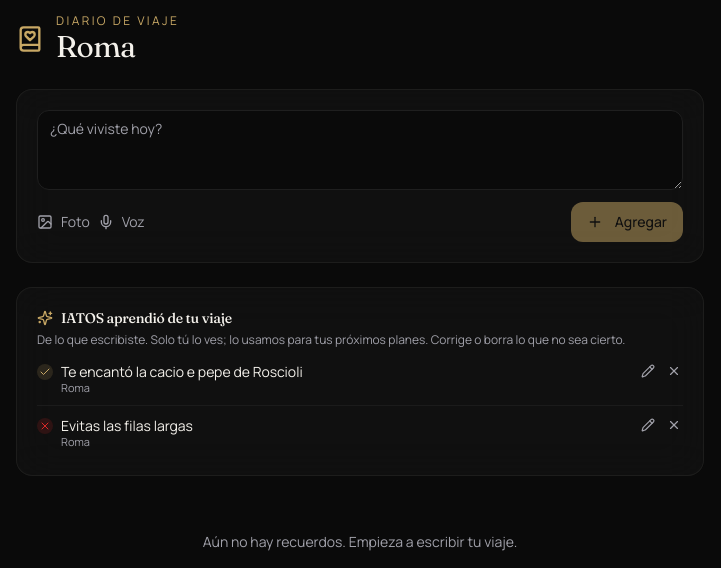
Test: IATOS aprendió de tu viaje (en el diario) › muestra lo aprendido antes, y se puede borrar cada punto y corregir su texto
Expected: the text "Te encantó la cacio e pepe de Roscioli" is shown, 60,361 -> 303,381
Click the button named "Borrar: Evitas las filas largas" at {"x": 674, "y": 425}, box 661,412 -> 687,438
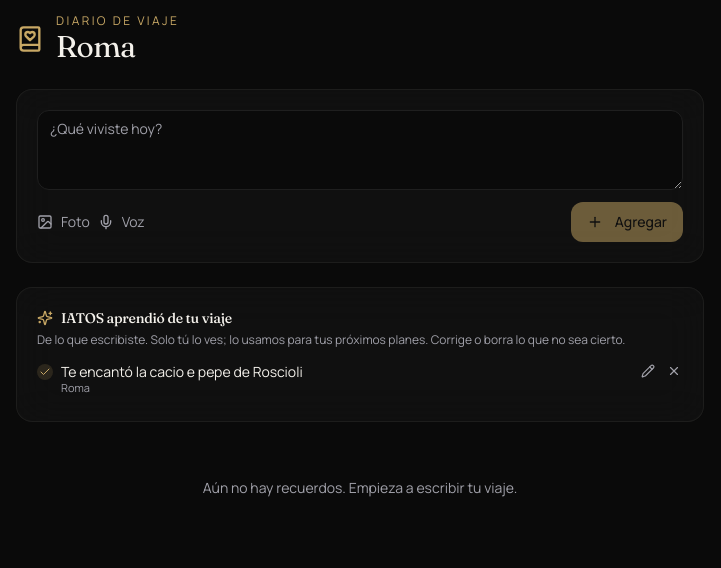
Expected: the text "Evitas las filas largas" is gone
Click the button named "Corregir: Te encantó la cacio e pepe de Roscioli" at {"x": 648, "y": 371}, box 635,358 -> 661,384
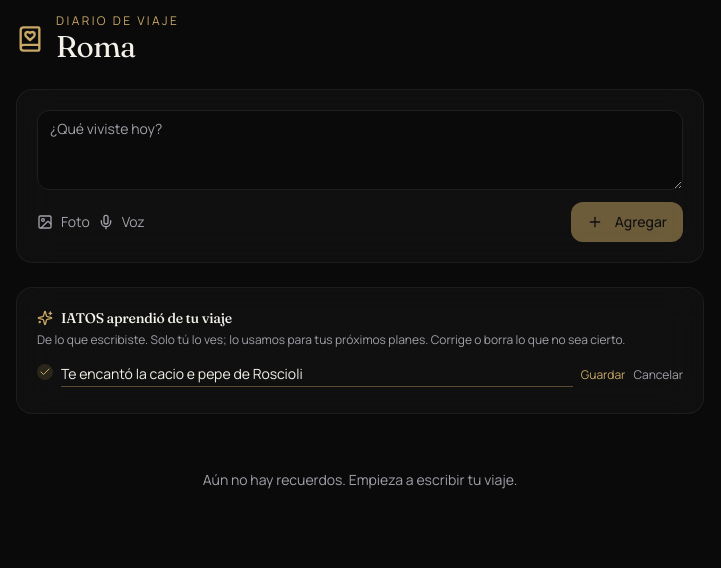
Replace the text in the field named "Corregir lo aprendido" with "Te encantó Roscioli" at {"x": 317, "y": 374}, box 61,362 -> 573,387
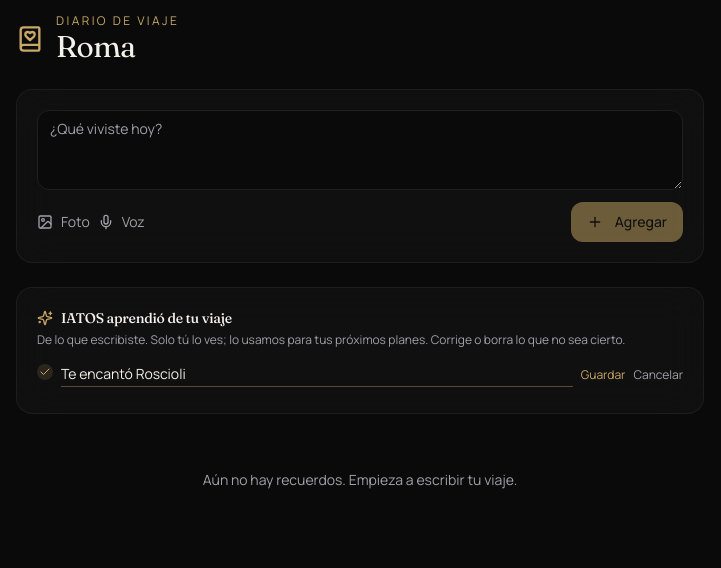
Click the button "Guardar" at {"x": 603, "y": 374}, box 581,366 -> 625,382
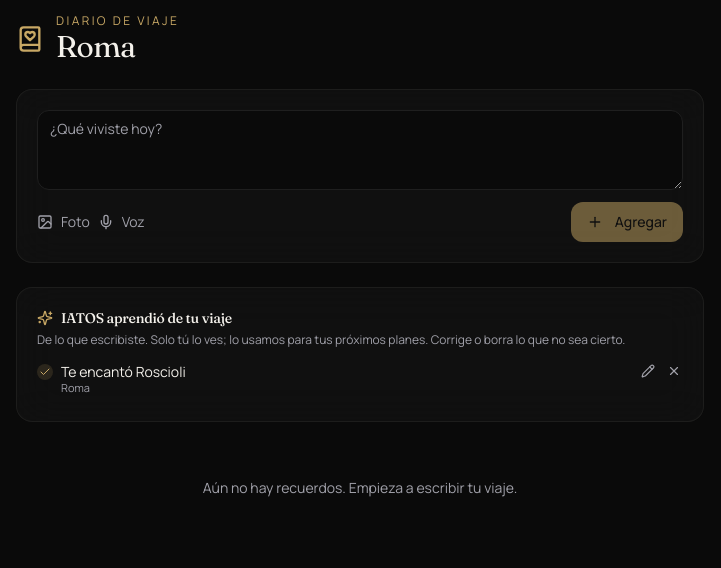
Expected: the text "Te encantó Roscioli" is shown, 60,361 -> 186,381
